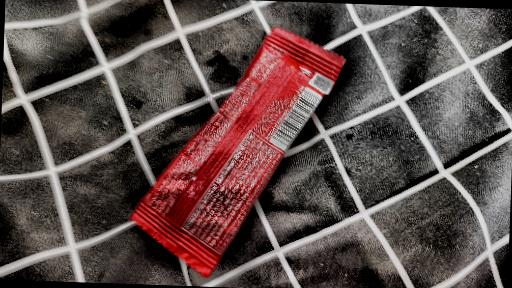chocho: (118, 14, 352, 282)
